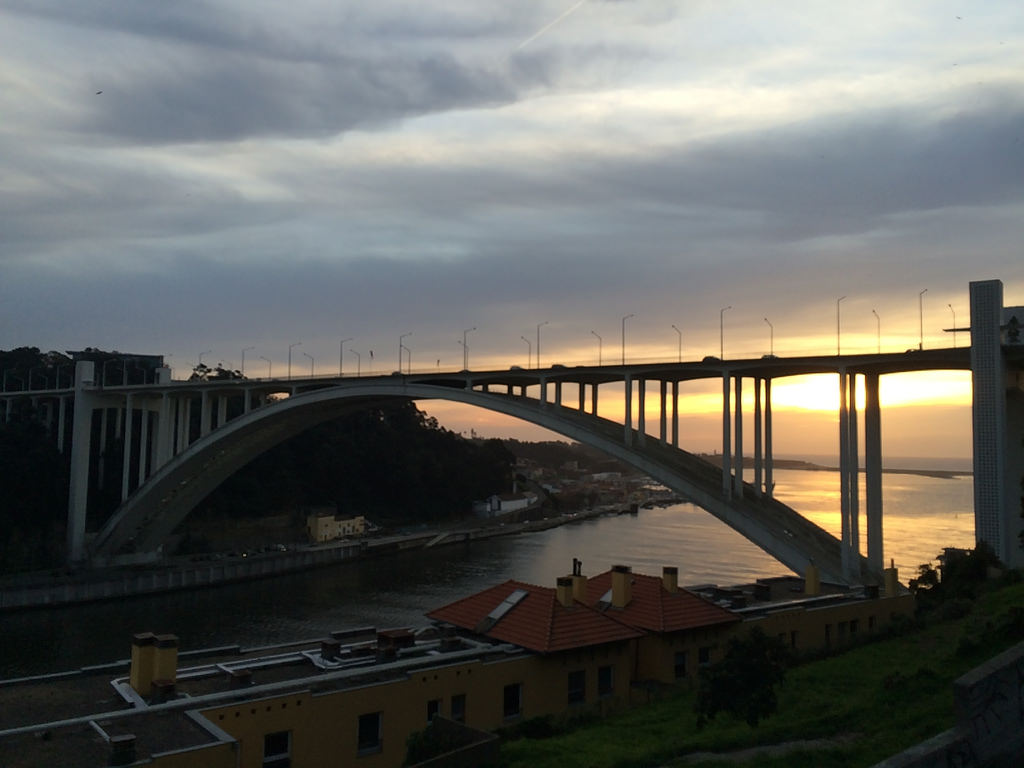arrabida: (0, 276, 1023, 593)
